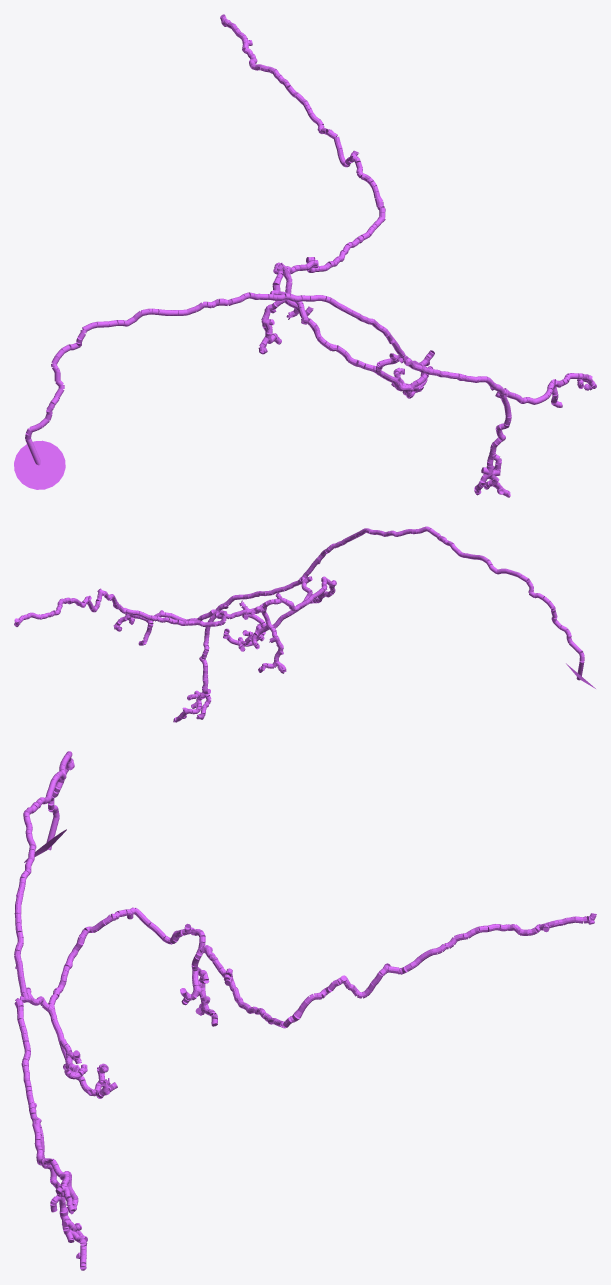
Rendered from VFB_001000ru.glb.
The picture shows the model from 3 angles, top to bottom: view 1: azimuth 30°, elevation 25°; view 2: azimuth 150°, elevation 25°; view 3: azimuth 270°, elevation 25°; orthographic projection. The views are drawn at different scales.
Visible parts, largest first — view 1: VFB_001000ru; view 2: VFB_001000ru; view 3: VFB_001000ru.
Boxes of the visible parts, left/top/right/bottom form: VFB_001000ru: left=14, top=14, right=596, bottom=497; VFB_001000ru: left=14, top=526, right=595, bottom=722; VFB_001000ru: left=14, top=751, right=596, bottom=1270.
Size of the model in its own units: 0.0453 by 0.0232 by 0.0367.
